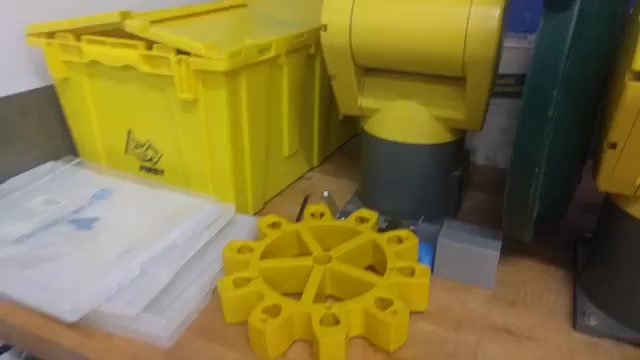gear: (212, 187, 435, 360)
